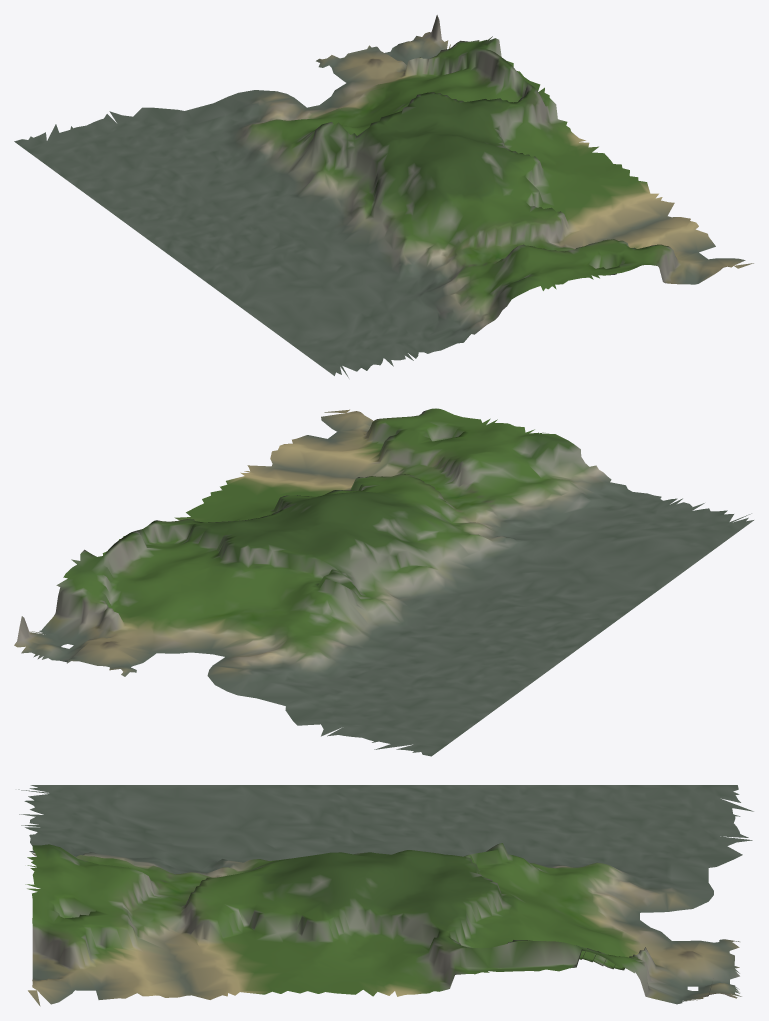
The model's file is coast_tile_x0z2_lod1.glb.
3 views of the same model, one above another, from view 1: azimuth 30°, elevation 25°; view 2: azimuth 150°, elevation 25°; view 3: azimuth 270°, elevation 25° (orthographic). The views are drawn at different scales.
Visible parts, largest first — view 1: coast_tile_x0z2_lod1; view 2: coast_tile_x0z2_lod1; view 3: coast_tile_x0z2_lod1.
Boxes of the visible parts, x1,y1,x2,y2 form: coast_tile_x0z2_lod1: (14,15,753,377); coast_tile_x0z2_lod1: (14,408,753,756); coast_tile_x0z2_lod1: (18,785,753,1006).
Bounding box in the file's own units: 615 × 82.35 × 842.
